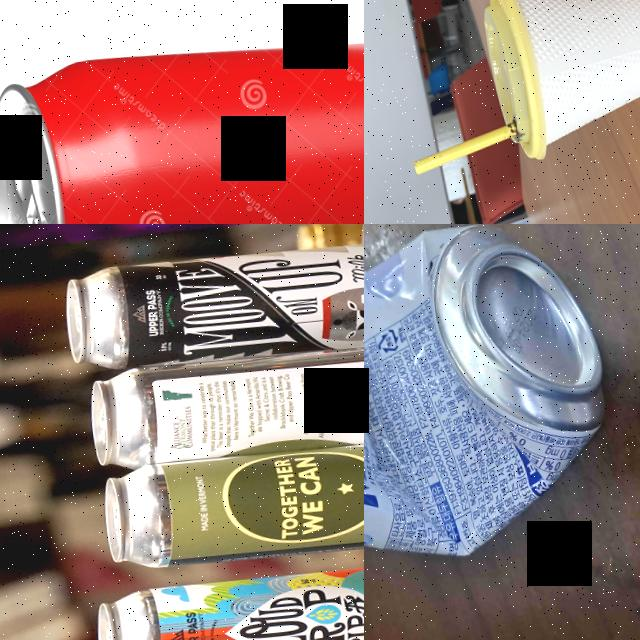can: (0, 11, 364, 224), (60, 230, 364, 378), (84, 331, 364, 472), (100, 431, 364, 575), (92, 554, 364, 640)
cup: (477, 0, 640, 166)
